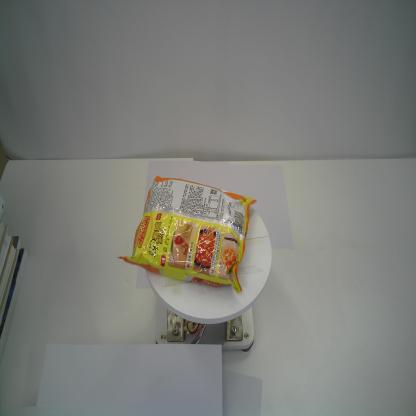Instant Noodles: (116, 174, 258, 295)
